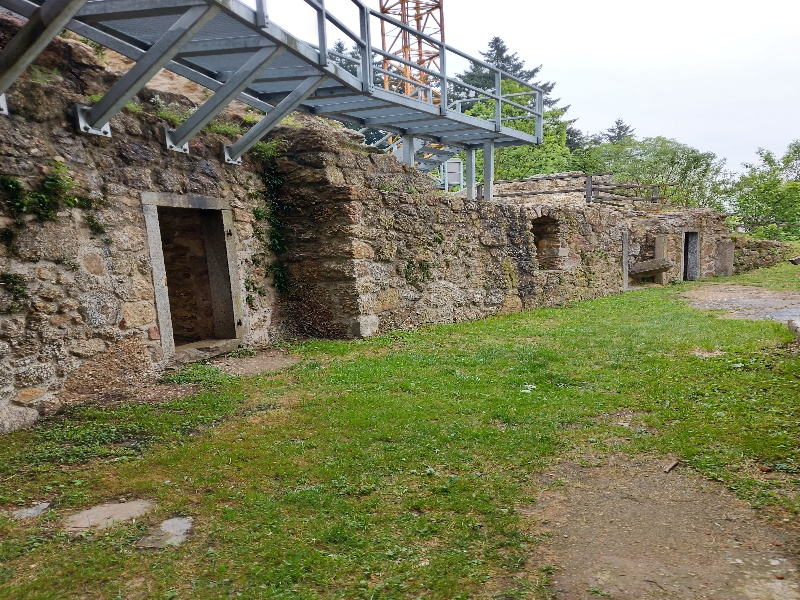door1: (129, 183, 261, 365)
door2: (664, 221, 712, 289)
